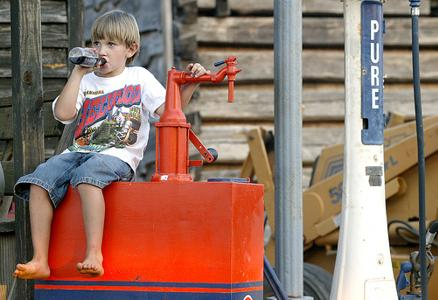person: (12, 10, 211, 279)
